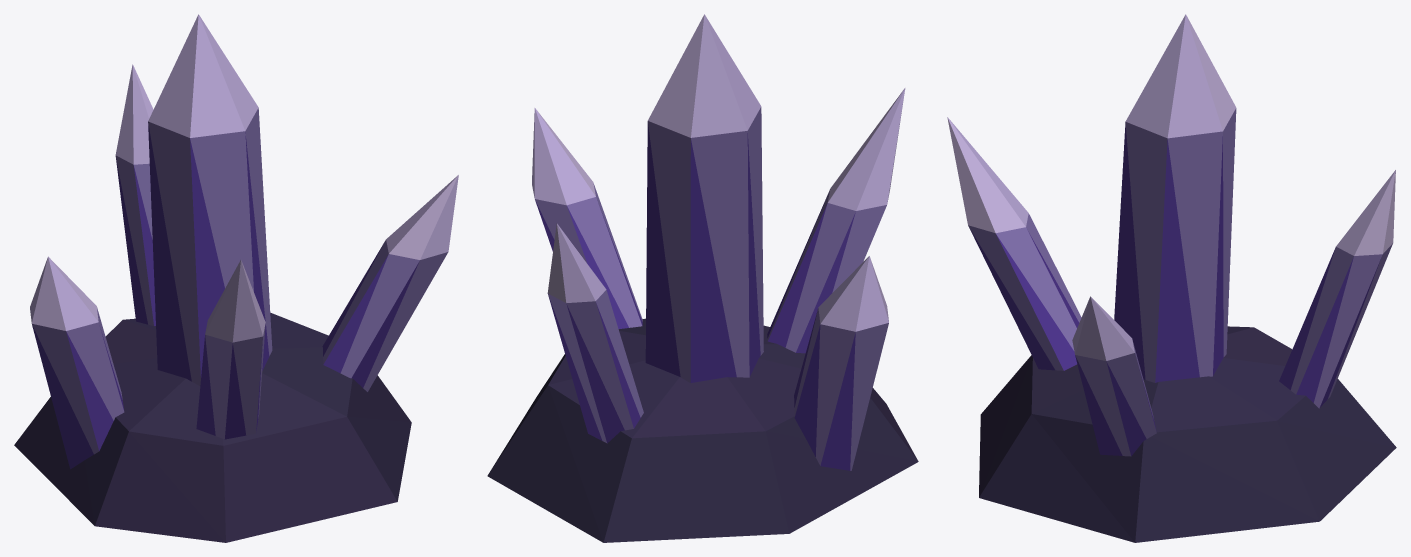
Rendered from arcane-crystals-a.glb.
The picture shows the model from 3 angles, left to right: view 1: azimuth 30°, elevation 25°; view 2: azimuth 150°, elevation 25°; view 3: azimuth 270°, elevation 25°; orthographic projection. The views are drawn at different scales.
Parts seen in each view (by area): view 1: arcane-crystals-a; view 2: arcane-crystals-a; view 3: arcane-crystals-a.
Boxes of the visible parts, <box> form: arcane-crystals-a: <box>14,14,458,542</box>; arcane-crystals-a: <box>487,14,918,542</box>; arcane-crystals-a: <box>947,14,1396,542</box>.
Size of the model in its own units: 0.3474 by 0.3749 by 0.3496.
